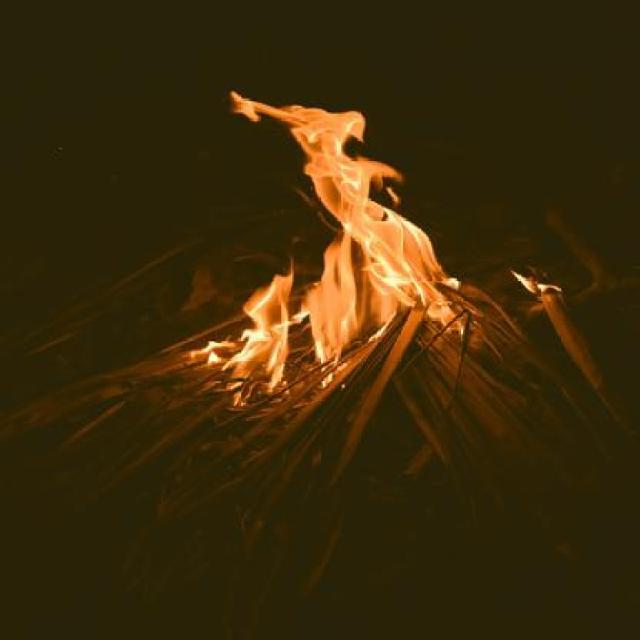Fire: (205, 74, 474, 394), (505, 255, 560, 308)
